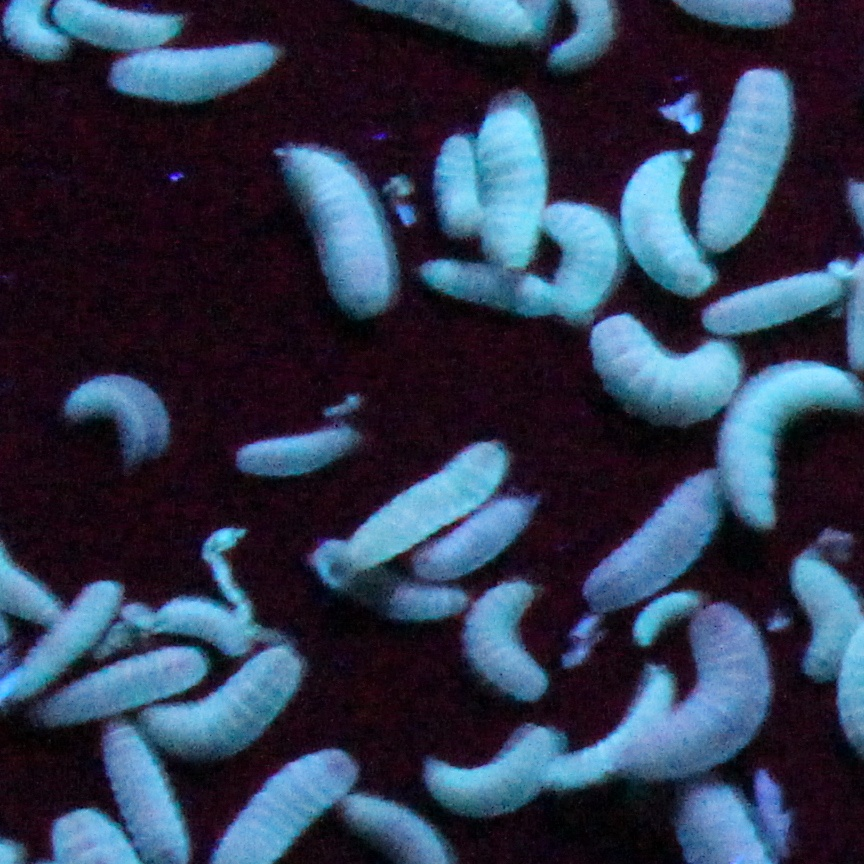larve: (620, 602, 775, 783), (333, 439, 507, 568), (582, 464, 727, 612), (138, 649, 312, 769), (588, 305, 745, 431), (693, 65, 798, 252), (280, 151, 394, 313), (548, 662, 676, 791), (20, 645, 214, 726), (2, 578, 123, 703), (308, 540, 478, 628), (419, 720, 562, 822), (622, 148, 718, 294), (106, 34, 285, 108), (474, 89, 544, 272), (408, 496, 535, 589), (60, 369, 170, 468), (462, 580, 548, 703), (699, 268, 852, 335), (537, 202, 614, 335), (230, 419, 360, 483), (418, 252, 552, 313), (145, 591, 254, 661), (1, 529, 62, 624), (430, 134, 483, 235)
